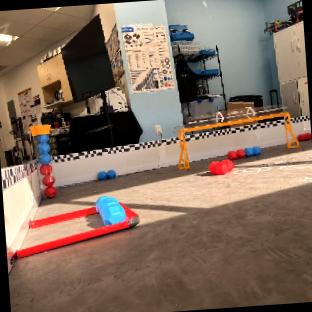Goal: (176, 105, 298, 169)
Parking-R: (11, 205, 138, 260)
V5_BLUE: (95, 196, 125, 224), (37, 134, 53, 184), (244, 145, 260, 155), (98, 170, 115, 179)
V5_RED: (40, 164, 54, 196), (209, 159, 232, 174), (228, 150, 244, 159), (298, 132, 311, 139)
